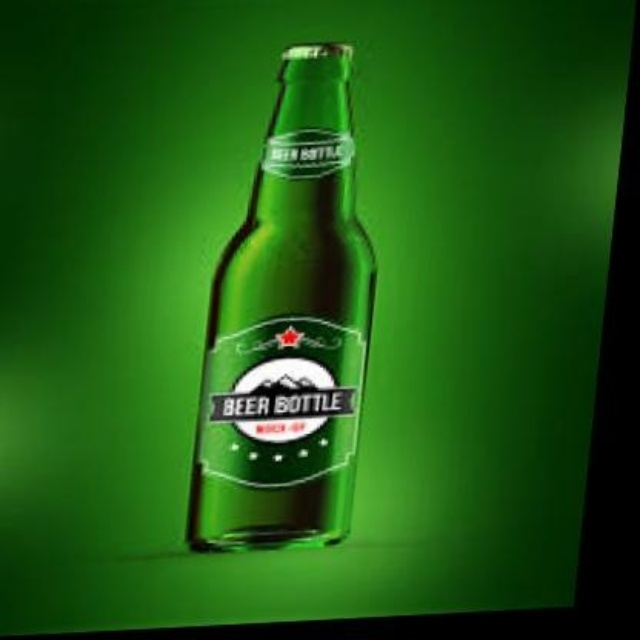trash: (188, 43, 374, 549)
